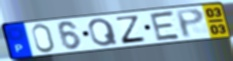0: (31, 22, 57, 54)
6: (57, 20, 83, 51)
E: (148, 9, 182, 42)
P: (174, 8, 207, 39)
Q: (87, 17, 120, 48)
Z: (114, 15, 148, 45)
